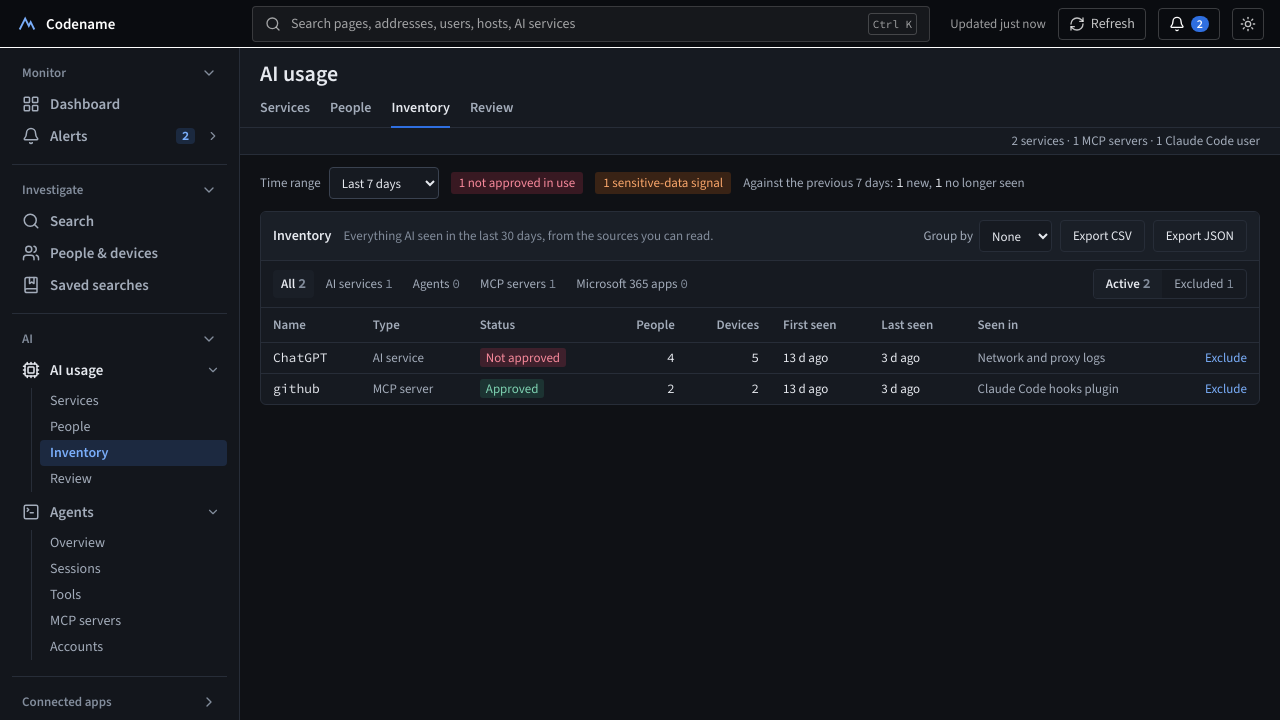
Test: AI inventory (ADR-0038 section 7) › lists every type, splits Active from Excluded, and excludes with a reason
Expected: the text "ChatGPT" is shown, [261,342,361,374]
Expected: the text "Lab Notes App" is not shown
Step 1. Click the button with aria-label "Exclude github" → (1226, 389), box [1205,380,1247,398]
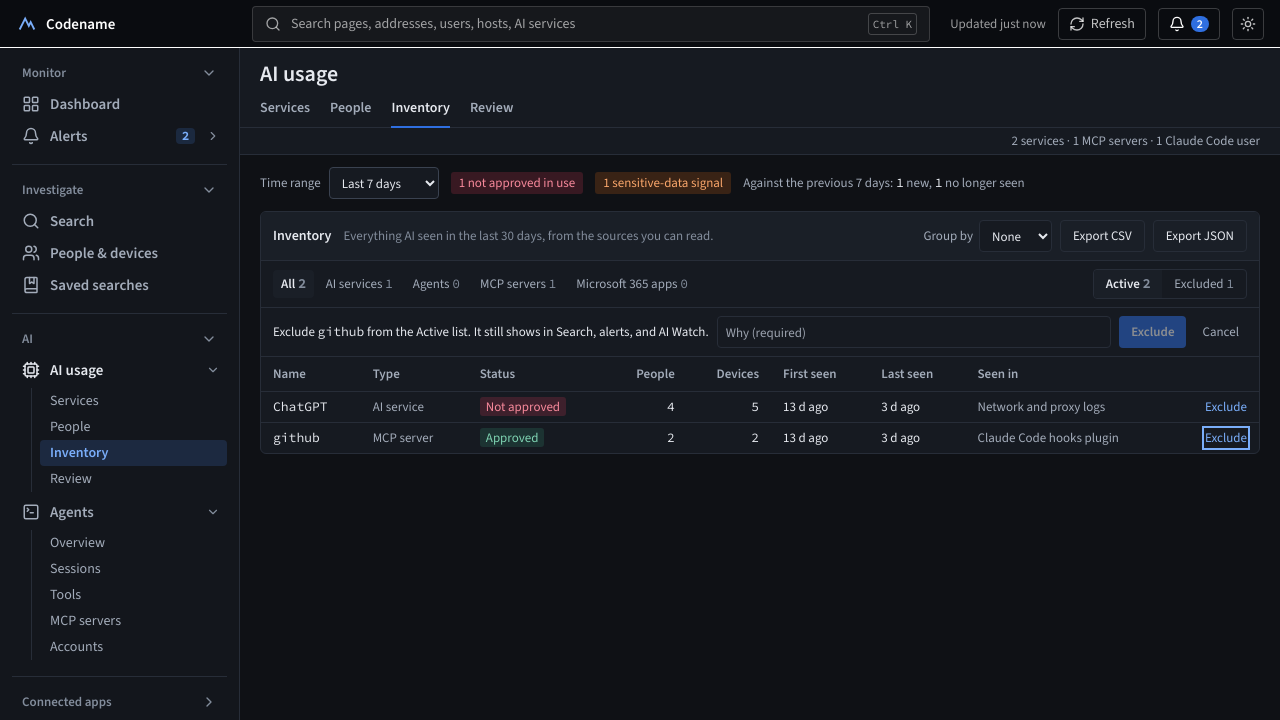
Step 2. Type "IT's own server" into the field named "Reason" → (914, 332), box [717,316,1111,348]
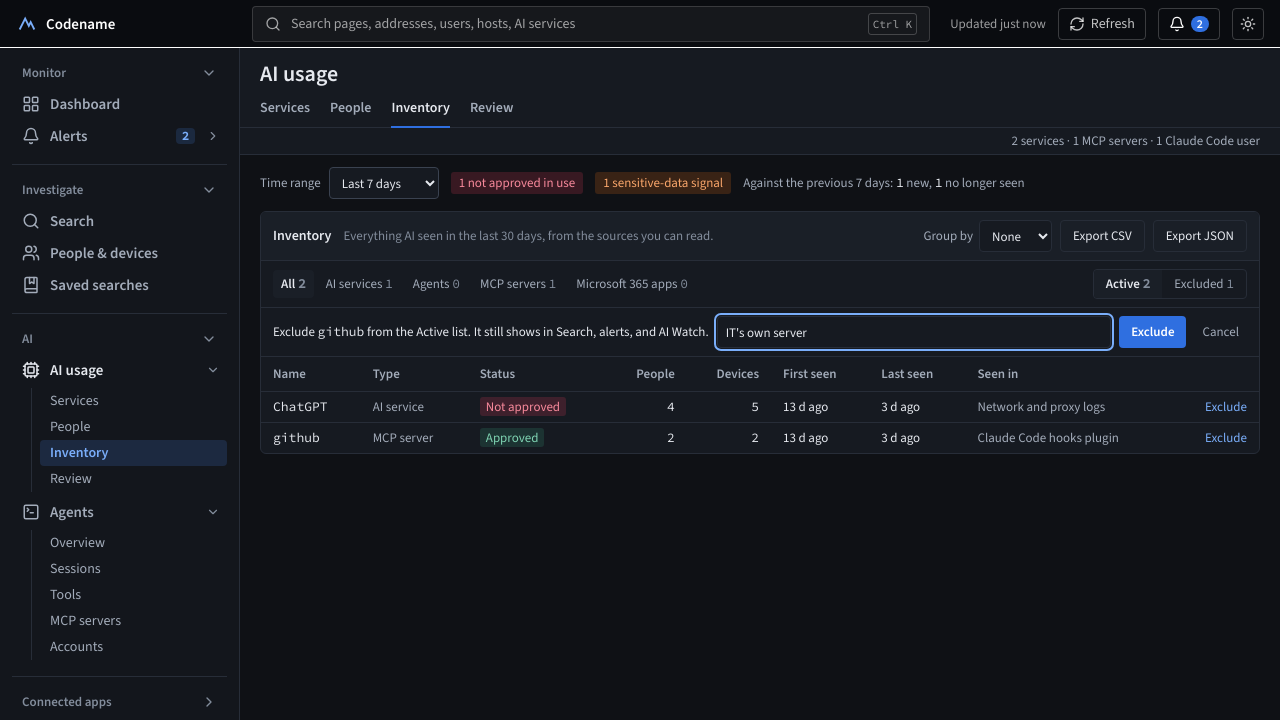
Step 3. Click the 1st button "Exclude" → (1153, 332), box [1119,316,1186,348]
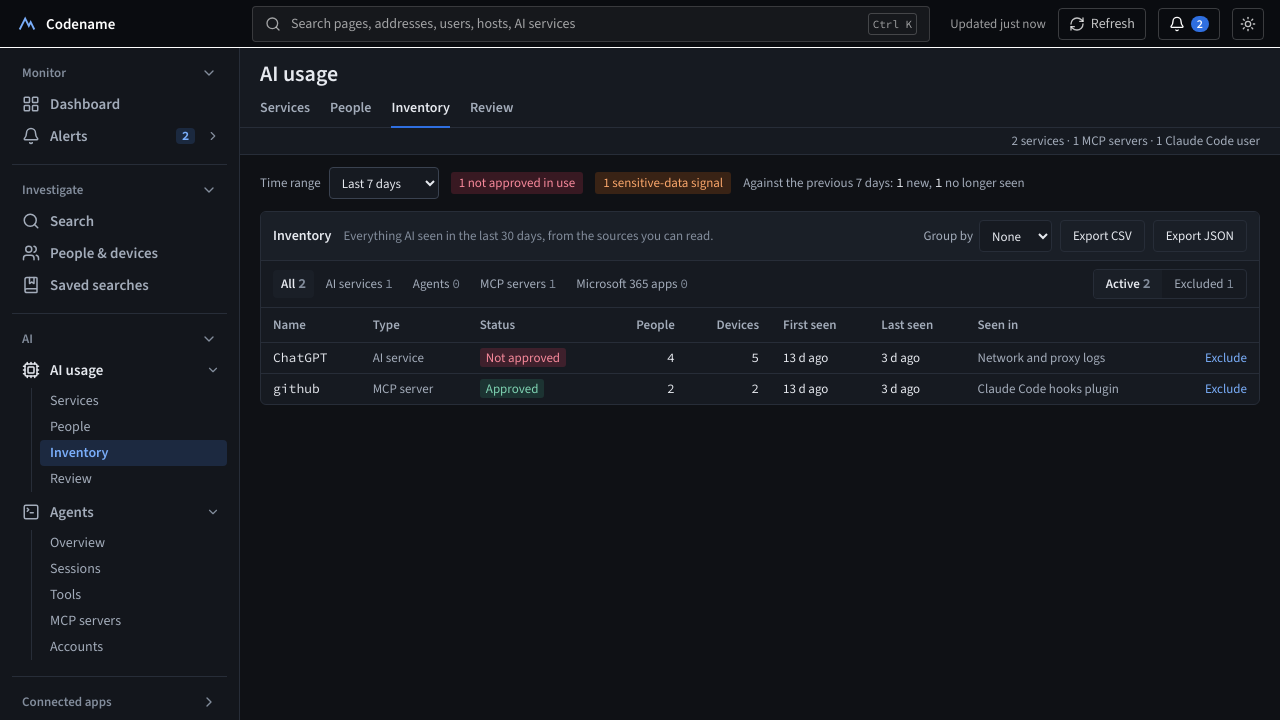
Step 4. Click the button "Excluded 1" → (1204, 284), box [1162,270,1246,298]
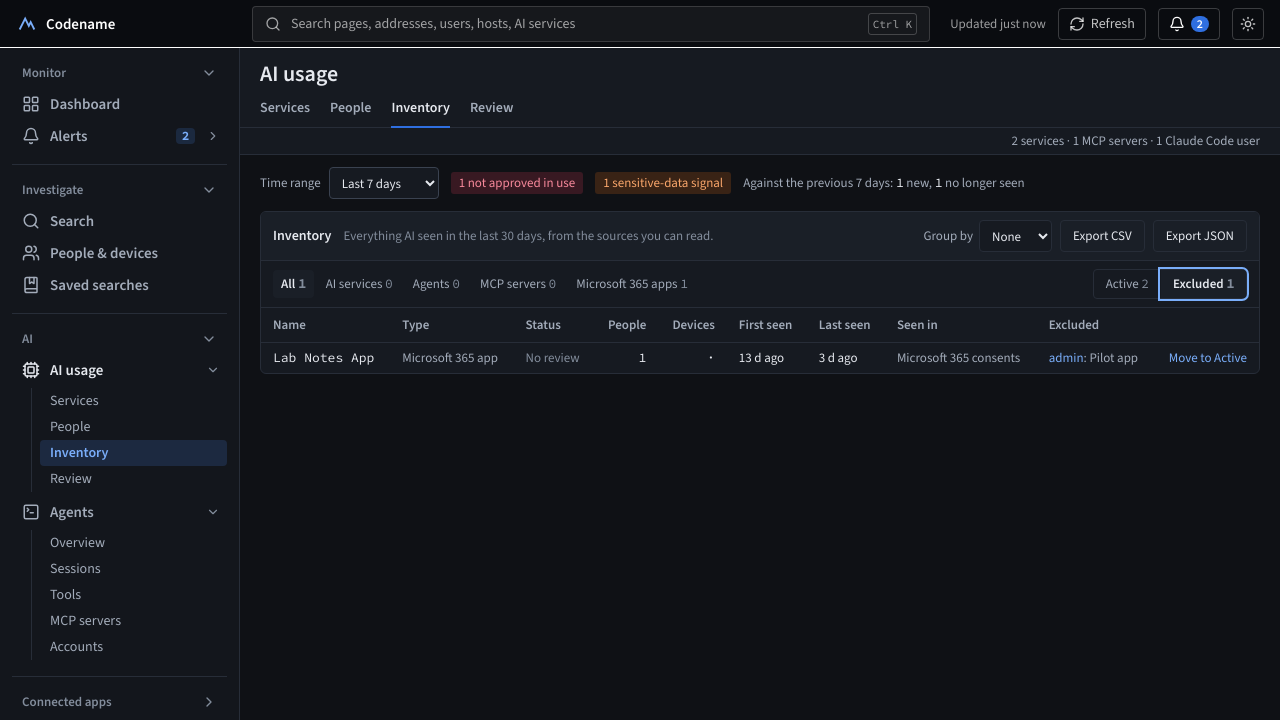
Expected: the button "Export CSV" is shown, [1060,220,1145,252]
Result: the text "Lab Notes App" shows "Pilot app" at [1089,349,1138,366]
